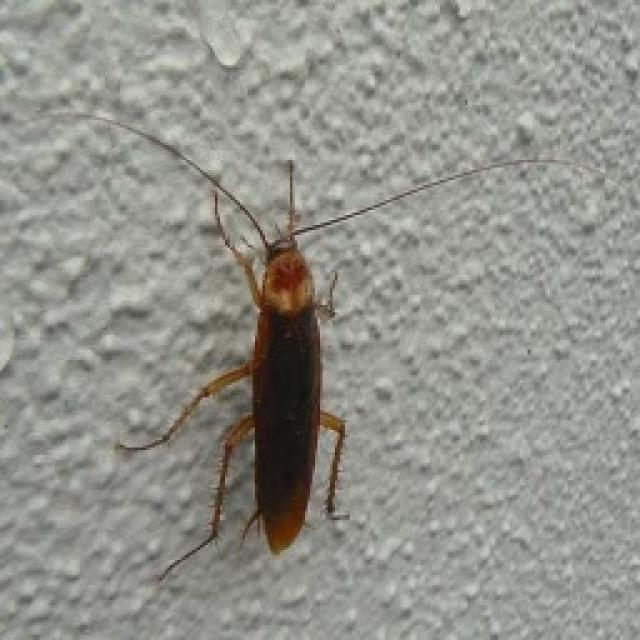cockroach: (116, 147, 378, 578)
